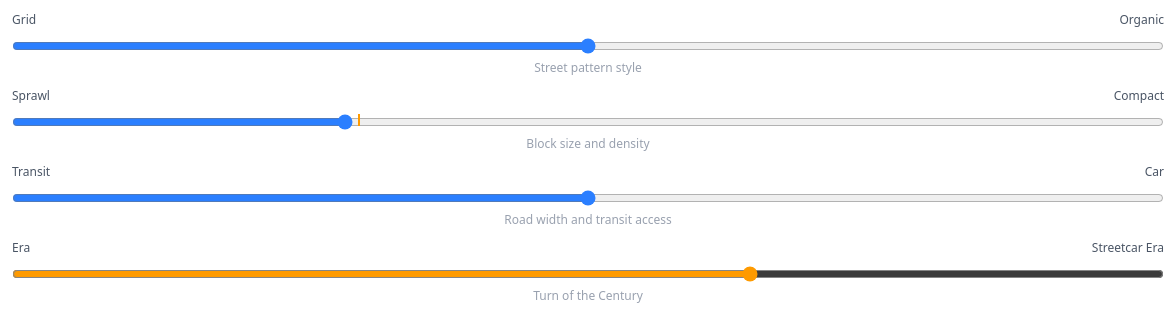
Test: PersonalitySliders › validation constraints › sprawl_compact constraint for pre-1940 eras › shows constraint tooltip on hover for constrained sliders
Note: Find the sprawl slider wrapper and hover
Hover over the element showing "Sprawl Compact Block size and density".
mouse_move(588, 120)  # box [12,88,1164,152]
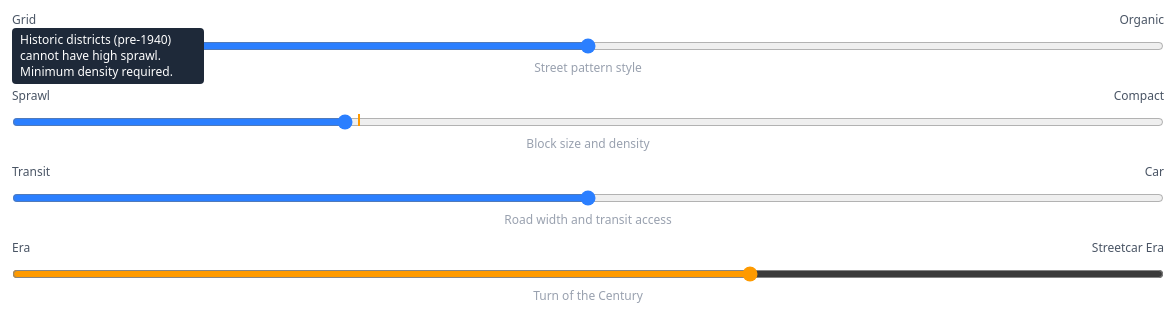
Result: the text with test id "constraint-tooltip-sprawl_compact" is shown at [12,28,204,84]
Result: the text with test id "constraint-tooltip-sprawl_compact" shows "Historic districts" at [20,31,173,80]
